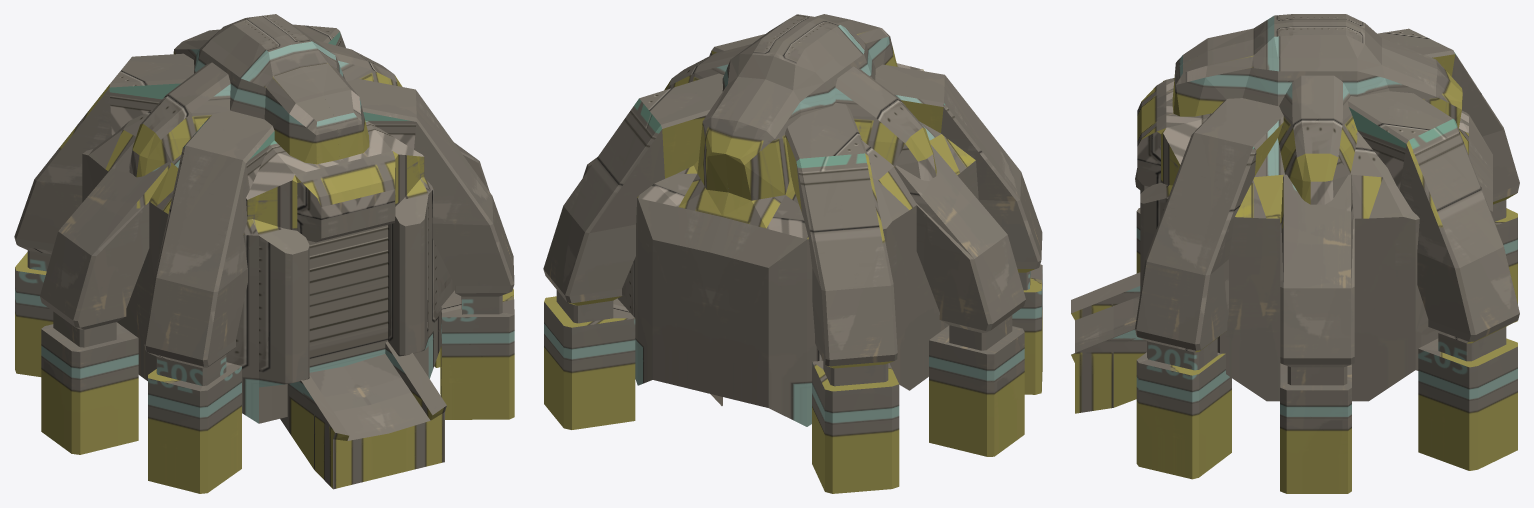
Rendered from civic_center.dae.
The picture shows the model from 3 angles, left to right: view 1: azimuth 30°, elevation 25°; view 2: azimuth 150°, elevation 25°; view 3: azimuth 270°, elevation 25°; orthographic projection.
Parts seen in each view (by area): view 1: human_cc; view 2: human_cc; view 3: human_cc.
Boxes of the visible parts, box(x1,y1,x2,y2) form: human_cc: box(14, 14, 514, 493); human_cc: box(543, 14, 1042, 493); human_cc: box(1071, 14, 1519, 493).
Bounding box in the file's own units: 24.5 × 22.19 × 20.03.
